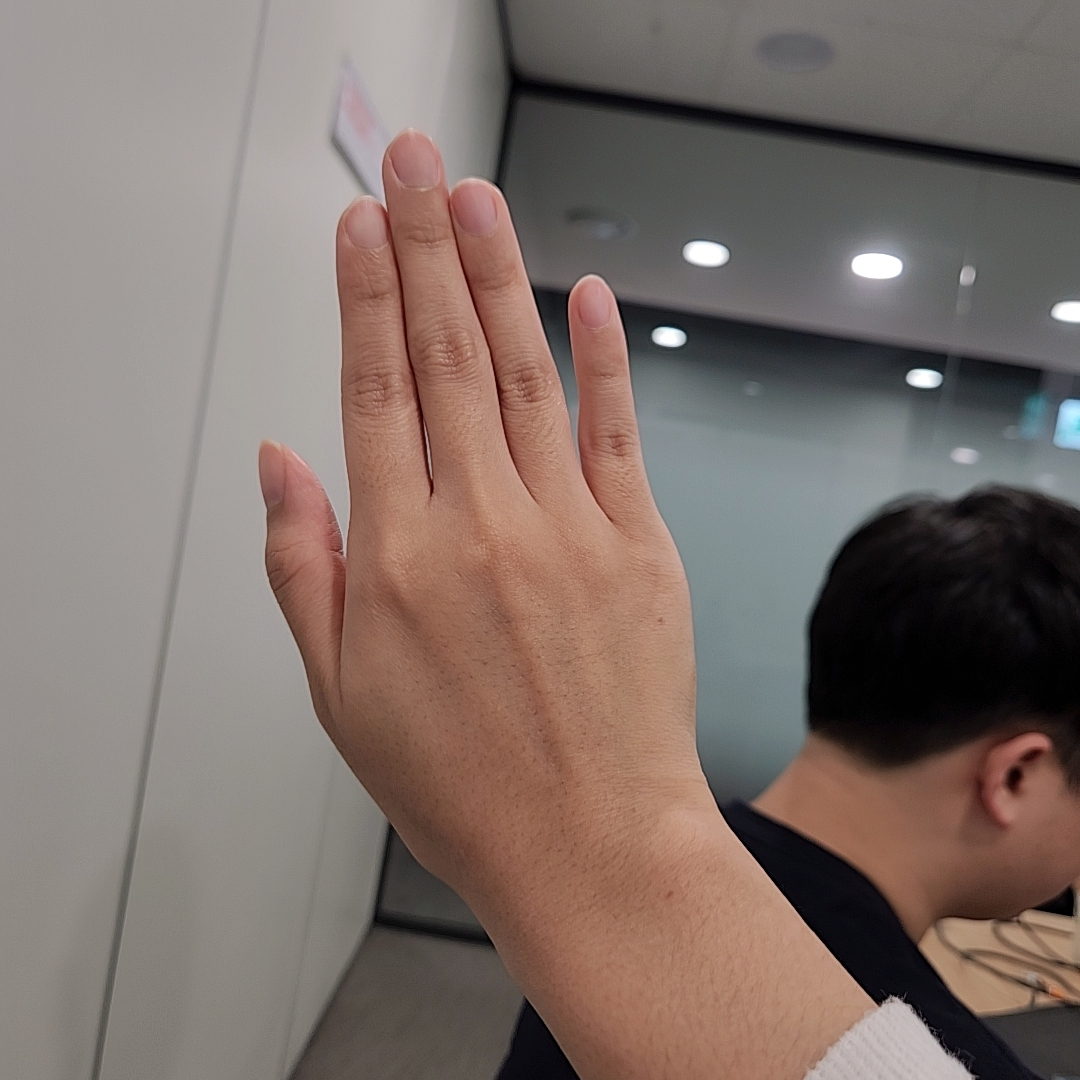me: (255, 129, 697, 876)
